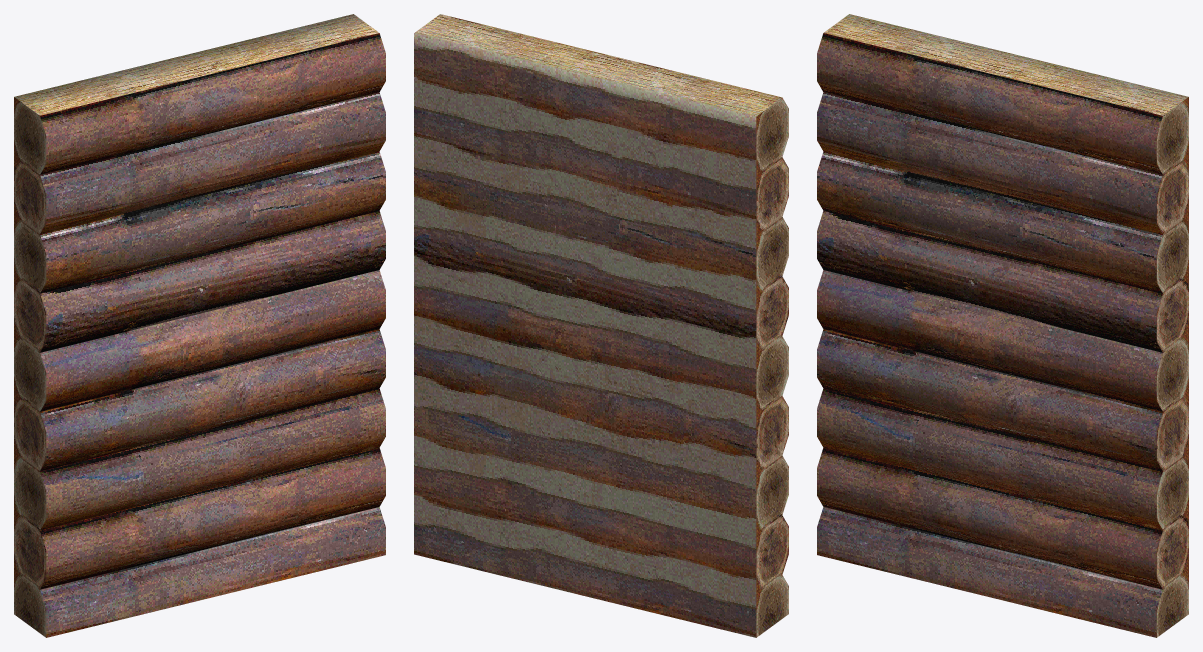
Rendered from wall-A.glb.
The picture shows the model from 3 angles, left to right: view 1: azimuth 30°, elevation 25°; view 2: azimuth 150°, elevation 25°; view 3: azimuth 330°, elevation 25°; orthographic projection.
Parts seen in each view (by area): view 1: wall-A.001; view 2: wall-A.001; view 3: wall-A.001.
Part boxes in pixels (<box>): wall-A.001: <box>14,14,385,637</box>; wall-A.001: <box>414,14,788,637</box>; wall-A.001: <box>817,14,1188,637</box>.
Size of the model in its own units: 2 by 2.91 by 0.3293.
1 material, 1 textured.
